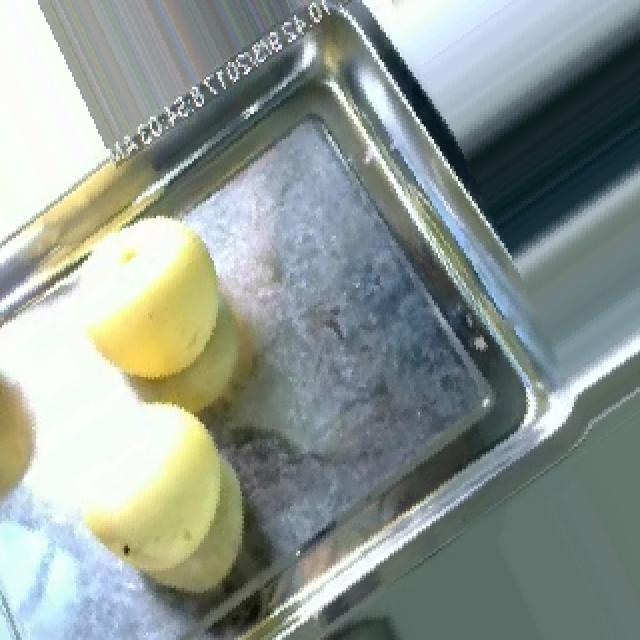Fruit: (60, 372, 278, 625), (64, 196, 244, 404), (0, 337, 60, 551)
